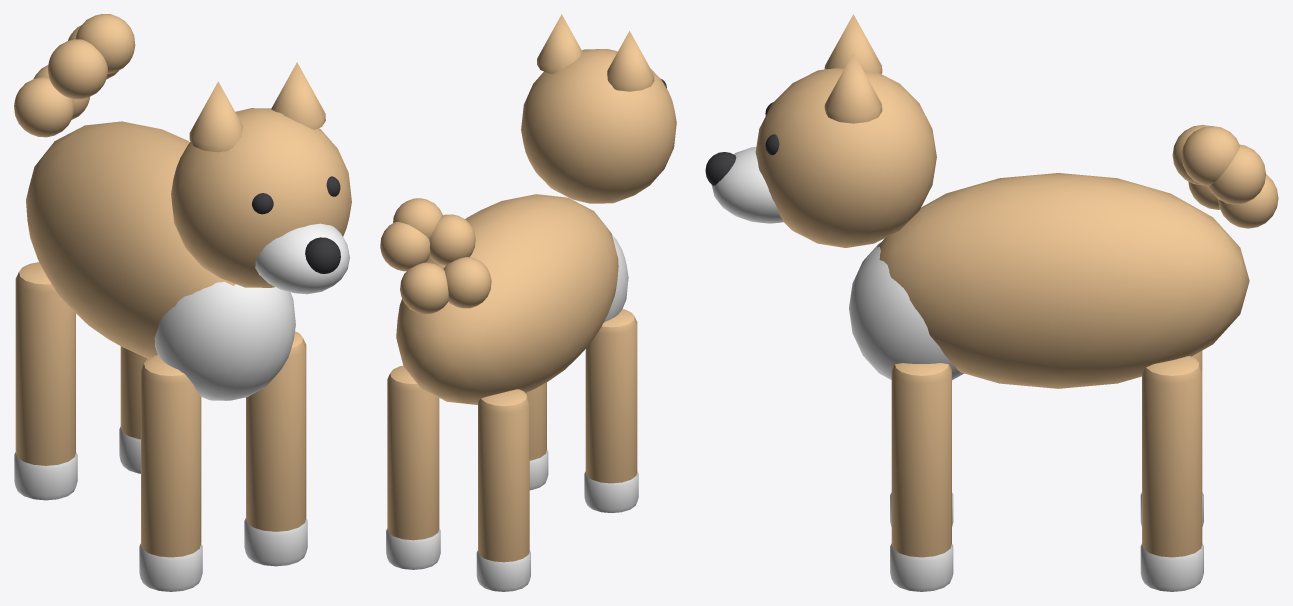
Rendered from shiba.glb.
3 views of the same model, side by side, from view 1: azimuth 30°, elevation 25°; view 2: azimuth 150°, elevation 25°; view 3: azimuth 270°, elevation 25° (orthographic). The views are drawn at different scales.
Parts seen in each view (by area): view 1: shiba; view 2: shiba; view 3: shiba.
Boxes of the visible parts, x1,y1,x2,y2 form: shiba: (14, 14, 351, 591); shiba: (380, 14, 676, 591); shiba: (705, 14, 1278, 591).
Size of the model in its own units: 0.27 by 0.76 by 0.755.
